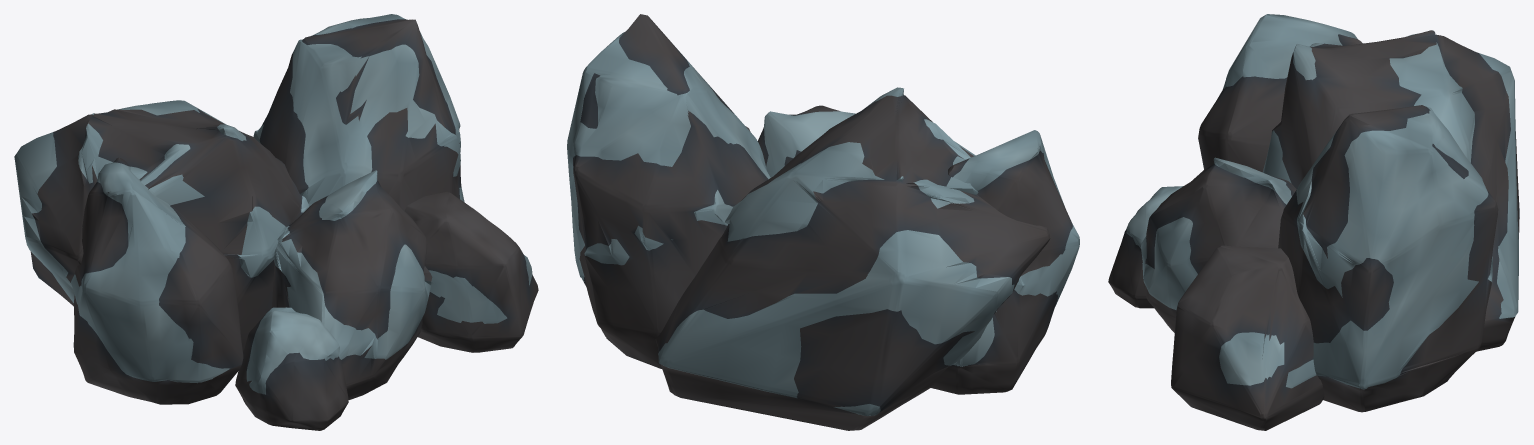
The model's file is corealm_ore_corven.glb.
The picture shows the model from 3 angles, left to right: view 1: azimuth 30°, elevation 25°; view 2: azimuth 150°, elevation 25°; view 3: azimuth 270°, elevation 25°; orthographic projection. The views are drawn at different scales.
Parts seen in each view (by area): view 1: corealm_ore_corven; view 2: corealm_ore_corven; view 3: corealm_ore_corven.
Boxes of the visible parts, <box> form: corealm_ore_corven: <box>14,14,538,430</box>; corealm_ore_corven: <box>567,14,1079,430</box>; corealm_ore_corven: <box>1108,14,1519,430</box>.
Size of the model in its own units: 1.48 by 0.87 by 1.15.
